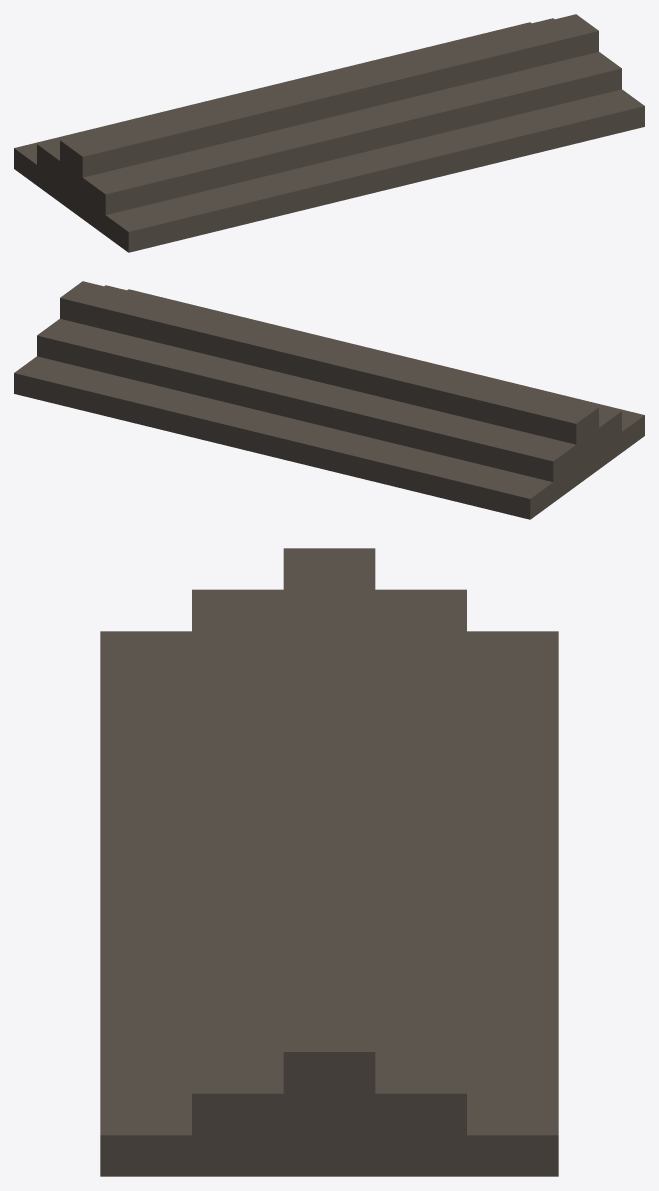
Rendered from tomb_a_b_lid.obj.
The picture shows the model from 3 angles, top to bottom: view 1: azimuth 30°, elevation 25°; view 2: azimuth 150°, elevation 25°; view 3: azimuth 270°, elevation 25°; orthographic projection. The views are drawn at different scales.
Size of the model in its own units: 2.6 by 0.3 by 1.
1 material, 1 textured.
